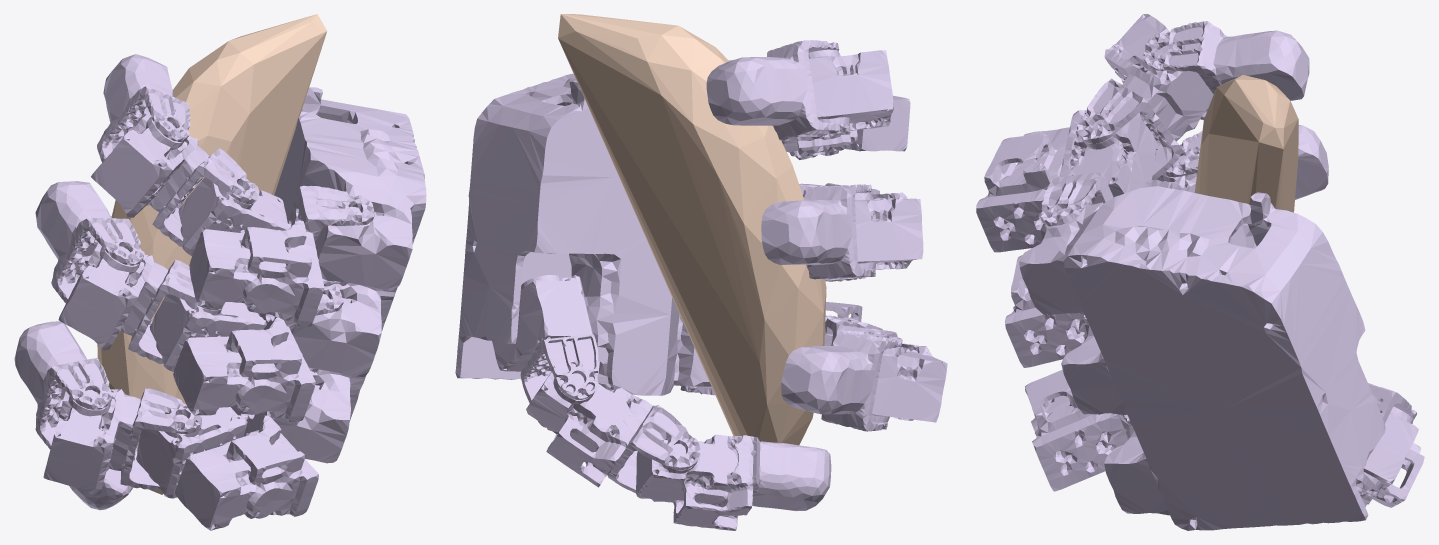
File: de2b5dd615bee0-closed.glb
3 views of the same model, side by side, from view 1: azimuth 30°, elevation 25°; view 2: azimuth 150°, elevation 25°; view 3: azimuth 270°, elevation 25° (orthographic). The views are drawn at different scales.
Visible parts, largest first — view 1: LEAP_hand, world; view 2: LEAP_hand, world; view 3: LEAP_hand, world.
Boxes of the visible parts, x1=… form: LEAP_hand: x1=14, y1=54, x2=426, y2=530; world: x1=97, y1=14, x2=327, y2=494; LEAP_hand: x1=455, y1=40, x2=947, y2=530; world: x1=558, y1=14, x2=826, y2=445; LEAP_hand: x1=976, y1=14, x2=1424, y2=530; world: x1=1194, y1=75, x2=1298, y2=212.
Bounding box in the file's own units: 0.1801 × 0.1886 × 0.1618.
